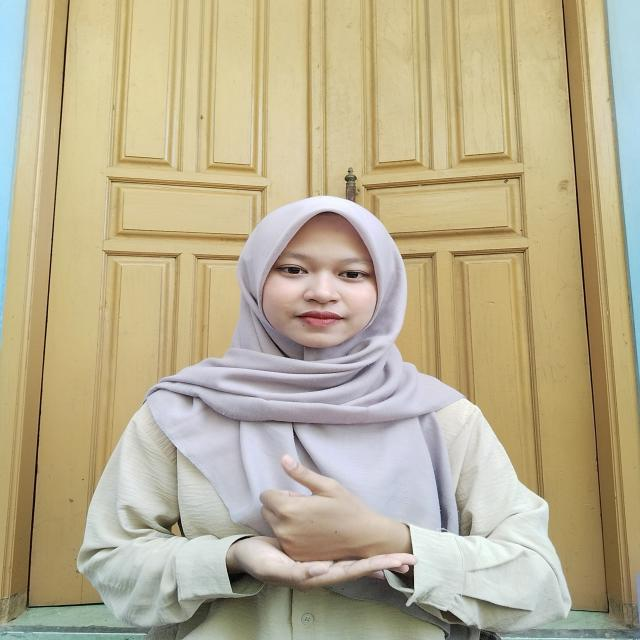cantik: (214, 448, 421, 598)
